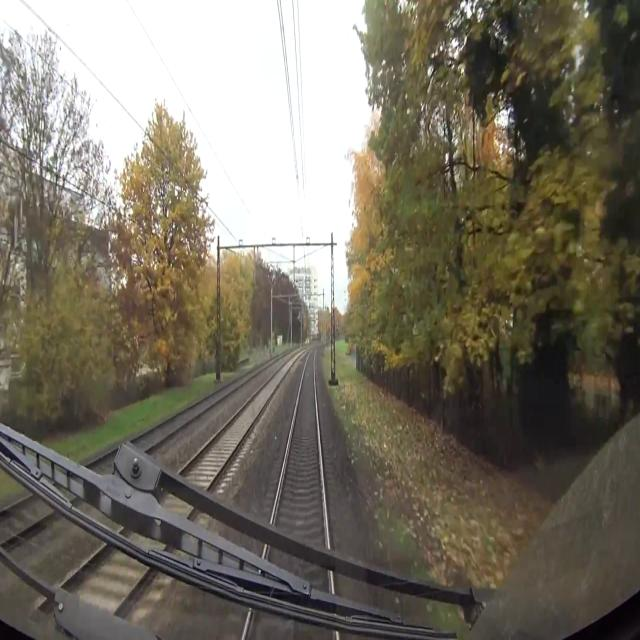rail-track: (179, 363, 289, 489), (273, 351, 326, 550), (127, 373, 251, 451), (82, 449, 120, 478)
